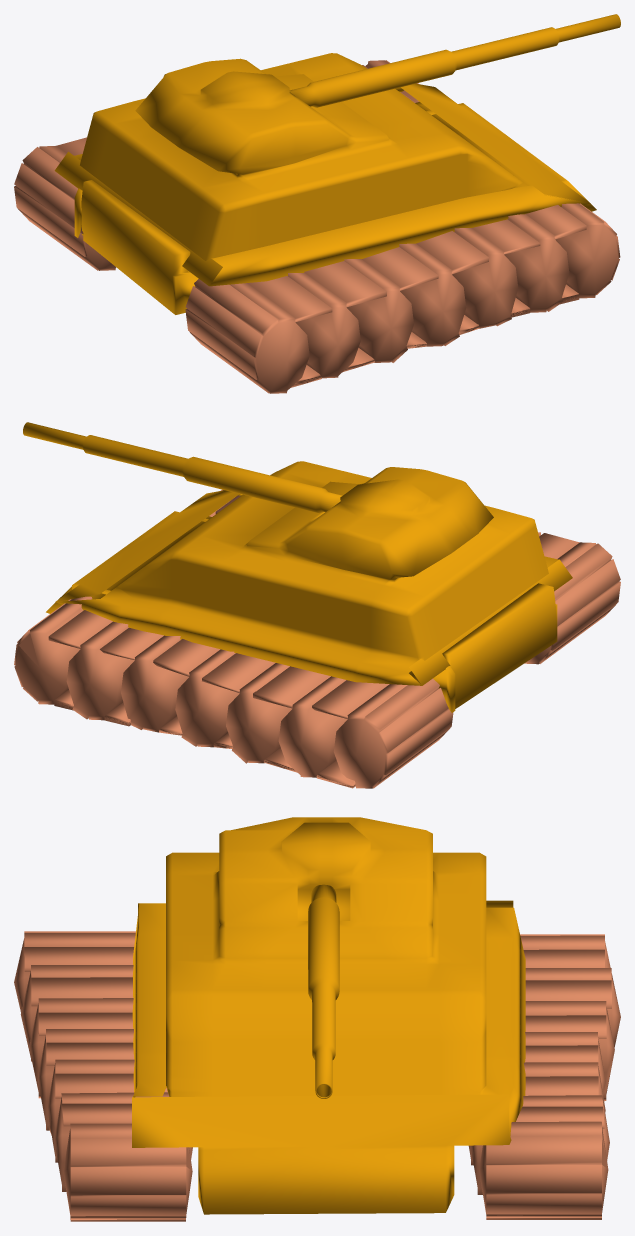
The model's file is tank_2.fbx.
The picture shows the model from 3 angles, top to bottom: view 1: azimuth 30°, elevation 25°; view 2: azimuth 150°, elevation 25°; view 3: azimuth 270°, elevation 25°; orthographic projection. The views are drawn at different scales.
Visible parts, largest first — view 1: Circle_004; view 2: Circle_004; view 3: Circle_004.
Part boxes in pixels (left/top/right/bottom): Circle_004: left=14, top=14, right=620, bottom=393; Circle_004: left=14, top=422, right=620, bottom=788; Circle_004: left=14, top=817, right=620, bottom=1221.
Size of the model in its own units: 4.39 by 1.7 by 3.85.
